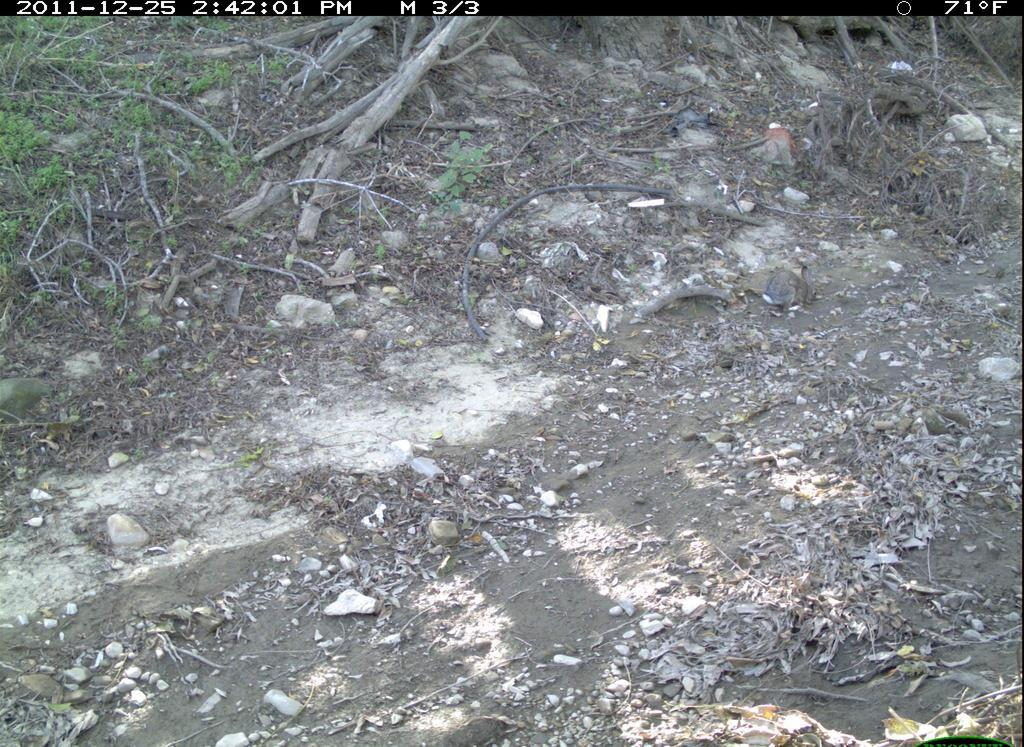rabbit: (757, 264, 826, 328)
